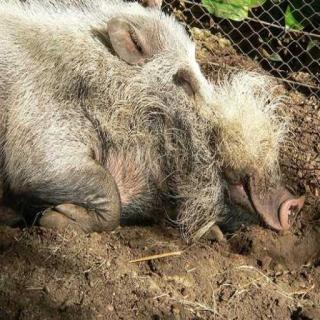Pig: (0, 0, 320, 251)
